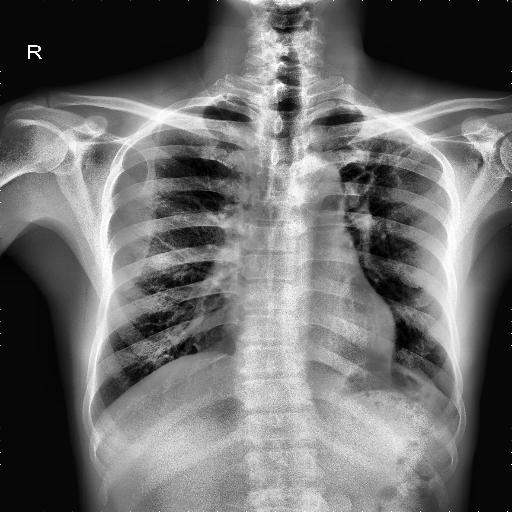0- Aortic enlargement: (287, 154, 345, 216), (292, 159, 346, 216)
10- Pleural effusion: (441, 387, 460, 417)
11- Pleural thickening: (441, 387, 460, 417)
13- Pulmonary fibrosis: (360, 112, 418, 186), (354, 140, 392, 196), (139, 226, 190, 264)
6- Infiltration: (360, 112, 418, 186)
